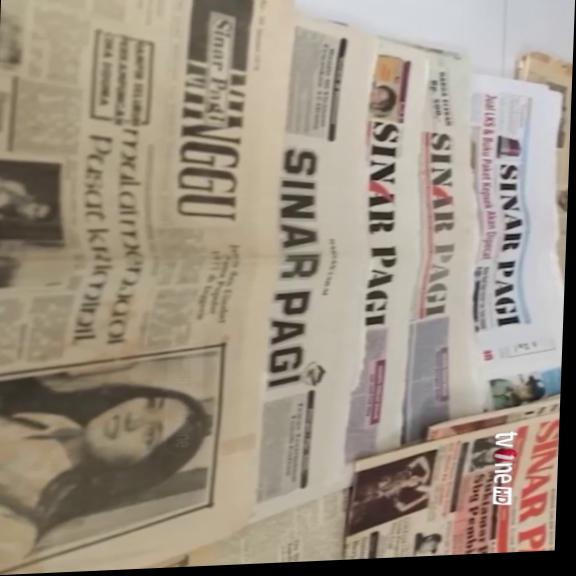Kertas: (0, 0, 292, 388), (243, 1, 383, 528), (351, 37, 484, 457), (459, 72, 569, 390)
